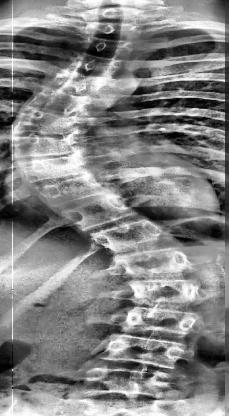Vertebrae: (84, 364, 174, 394), (108, 334, 187, 368), (130, 272, 204, 306), (126, 306, 204, 338), (31, 172, 107, 204), (62, 196, 132, 230), (94, 219, 168, 251), (122, 247, 190, 280), (18, 157, 86, 181), (15, 134, 80, 158), (14, 112, 70, 138), (22, 92, 90, 112), (62, 73, 108, 94), (79, 54, 119, 76), (84, 34, 122, 54), (92, 20, 126, 40)
